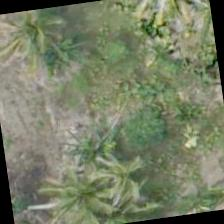Kelapa_Sawit: (0, 5, 82, 88), (53, 161, 152, 223)
